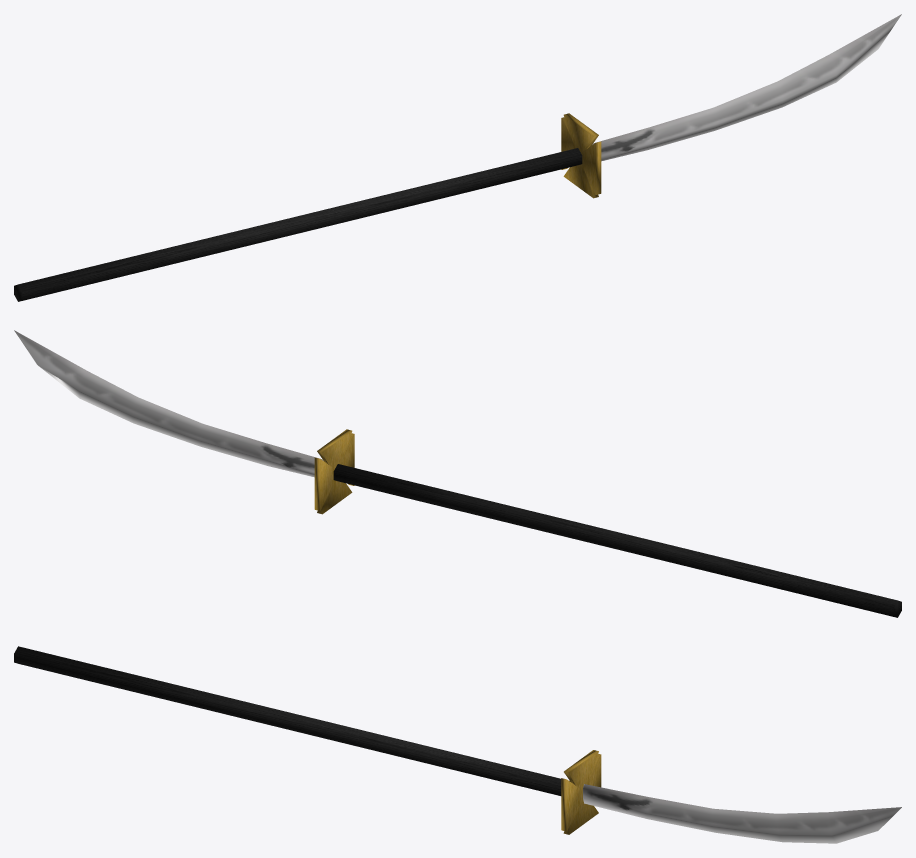
3 renders of one model, top to bottom at view 1: azimuth 30°, elevation 25°; view 2: azimuth 150°, elevation 25°; view 3: azimuth 330°, elevation 25°, orthographic.
Parts seen in each view (by area): view 1: it176; view 2: it176; view 3: it176.
Boxes of the visible parts, left/top/right/bottom form: it176: left=14, top=14, right=901, bottom=301; it176: left=14, top=330, right=901, bottom=617; it176: left=14, top=646, right=901, bottom=843.
Size of the model in its own units: 6.89 by 0.7036 by 0.4604.
Materials: 3 (3 with a texture image).
